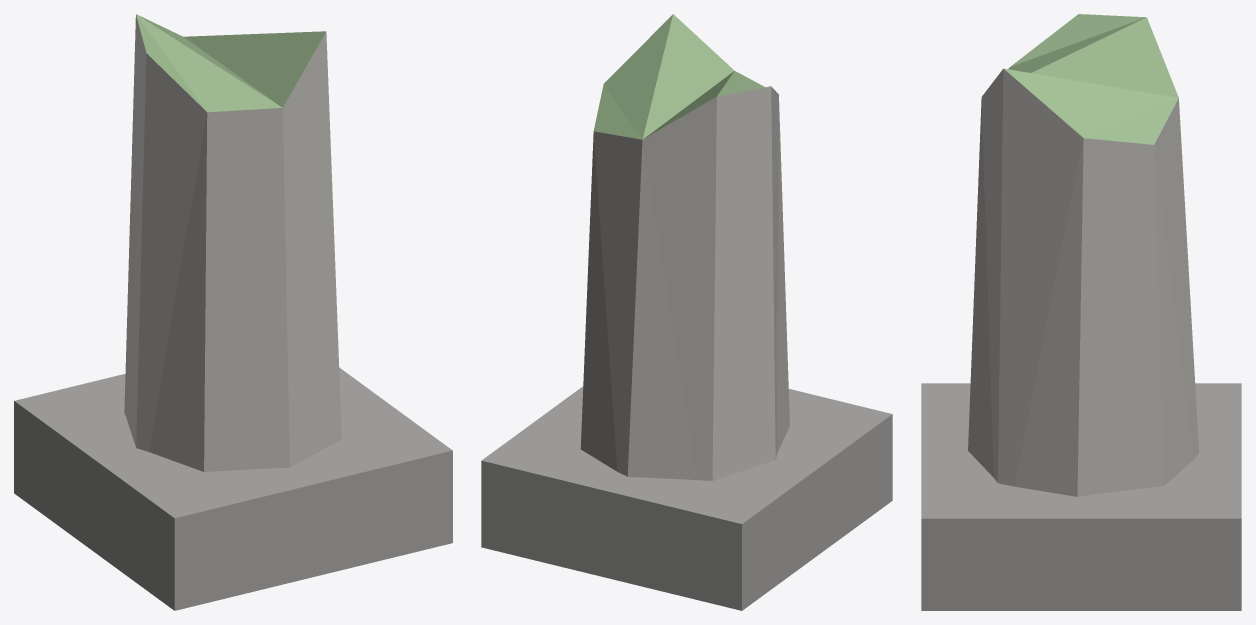
The model's file is RUIN-pillar-00.glb.
3 views of the same model, side by side, from view 1: azimuth 30°, elevation 25°; view 2: azimuth 150°, elevation 25°; view 3: azimuth 270°, elevation 25° (orthographic). The views are drawn at different scales.
Parts seen in each view (by area): view 1: RUIN-pillar-00; view 2: RUIN-pillar-00; view 3: RUIN-pillar-00.
Part boxes in pixels (<box>): RUIN-pillar-00: <box>14,14,452,610</box>; RUIN-pillar-00: <box>481,14,892,610</box>; RUIN-pillar-00: <box>921,14,1241,610</box>.
Size of the model in its own units: 1.1 by 1.9 by 1.1.
